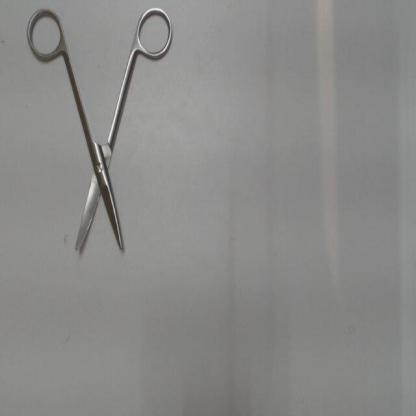Curved Mayo Scissors: (24, 1, 176, 260)
